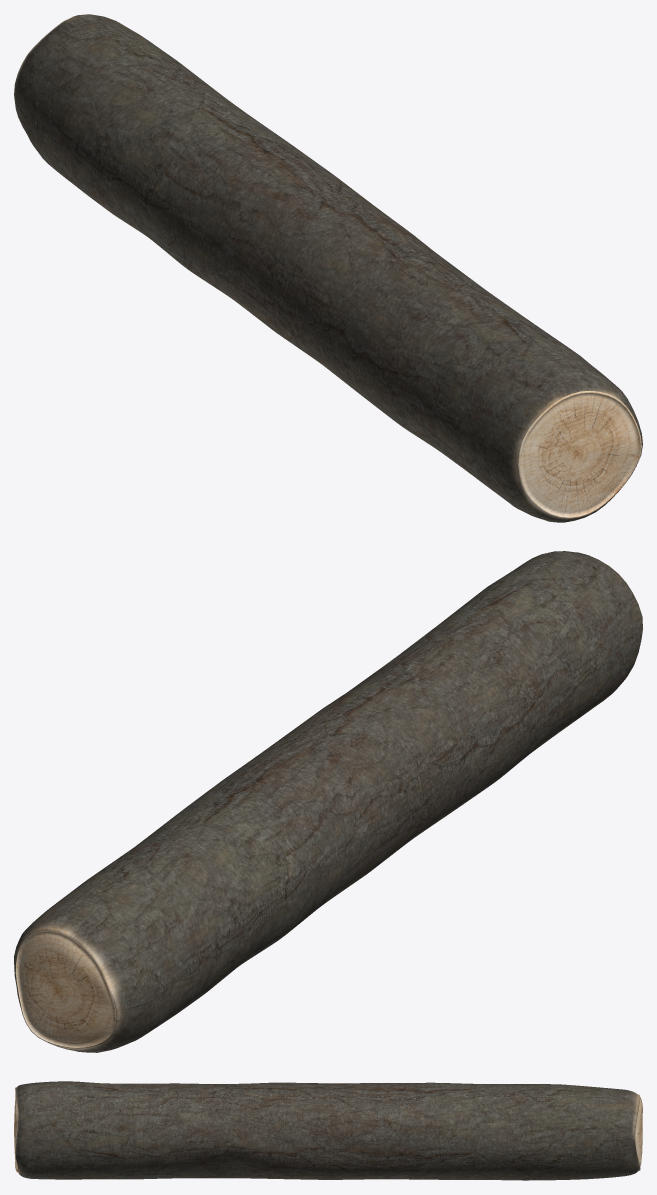
Rendered from TreeLog_02.fbx.
3 views of the same model, one above another, from view 1: azimuth 30°, elevation 25°; view 2: azimuth 150°, elevation 25°; view 3: azimuth 270°, elevation 25° (orthographic). The views are drawn at different scales.
Parts seen in each view (by area): view 1: Retopo_Cylinder.002; view 2: Retopo_Cylinder.002; view 3: Retopo_Cylinder.002.
Part boxes in pixels (x1,y1,x2,y2): Retopo_Cylinder.002: (14,14,642,522); Retopo_Cylinder.002: (14,551,642,1052); Retopo_Cylinder.002: (14,1081,642,1180).
Size of the model in its own units: 209 by 209 by 1321.
1 material, 1 textured.
